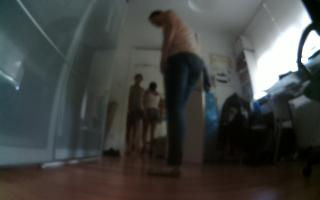person: (145, 8, 211, 182), (121, 70, 148, 155), (142, 82, 166, 165)
